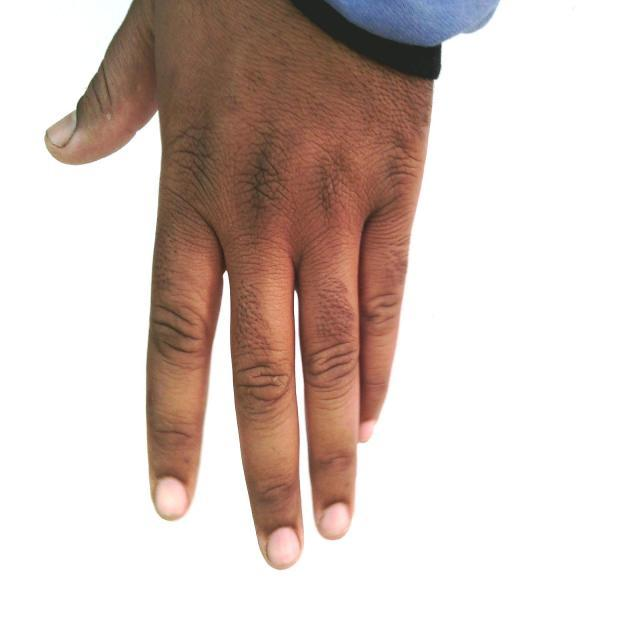Fingernail: (156, 478, 187, 518), (268, 528, 299, 568), (46, 111, 76, 146), (320, 503, 348, 537), (359, 420, 375, 443)
